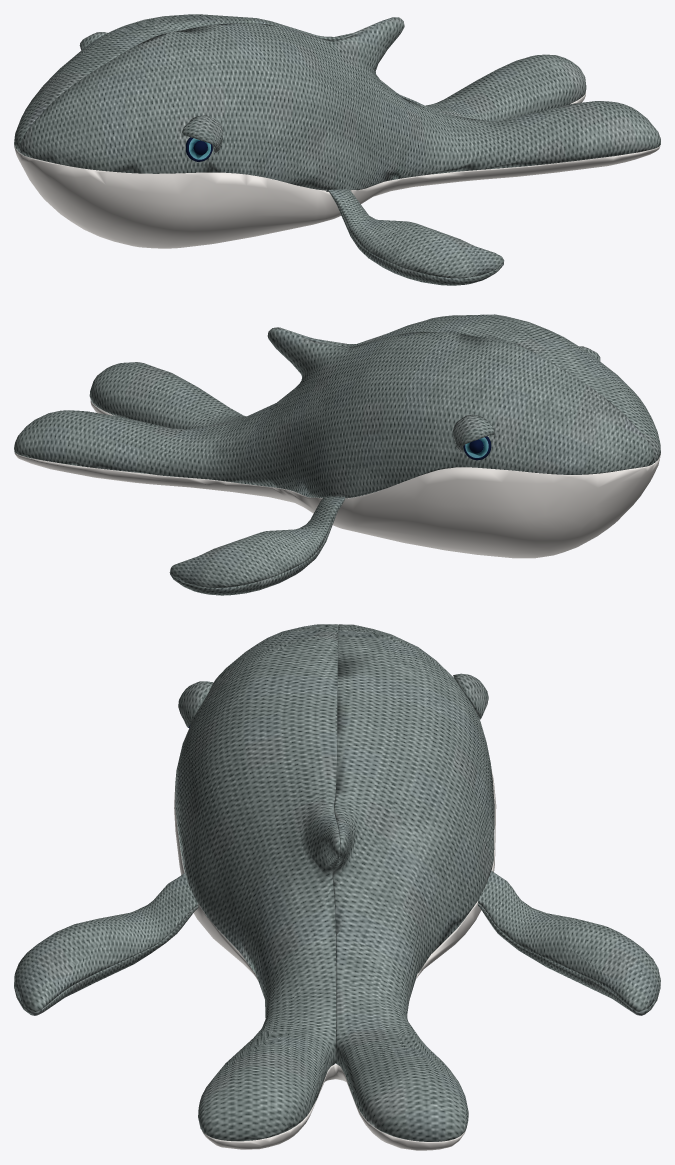
Rendered from Grandma_Giant_Whale_Soft_Toy_fur.glb.
3 views of the same model, one above another, from view 1: azimuth 30°, elevation 25°; view 2: azimuth 150°, elevation 25°; view 3: azimuth 270°, elevation 25° (orthographic). The views are drawn at different scales.
Parts seen in each view (by area): view 1: Grandma_Giant_Whale_Soft_Toy_StaticMeshComponent0, Grandma_Giant_Whale_Soft_Toy_fur_StaticMeshComponent0; view 2: Grandma_Giant_Whale_Soft_Toy_StaticMeshComponent0, Grandma_Giant_Whale_Soft_Toy_fur_StaticMeshComponent0; view 3: Grandma_Giant_Whale_Soft_Toy_StaticMeshComponent0, Grandma_Giant_Whale_Soft_Toy_fur_StaticMeshComponent0.
Part boxes in pixels (<box>): Grandma_Giant_Whale_Soft_Toy_StaticMeshComponent0: <box>14,14,660,285</box>; Grandma_Giant_Whale_Soft_Toy_fur_StaticMeshComponent0: <box>14,92,660,248</box>; Grandma_Giant_Whale_Soft_Toy_StaticMeshComponent0: <box>14,314,660,595</box>; Grandma_Giant_Whale_Soft_Toy_fur_StaticMeshComponent0: <box>14,400,660,558</box>; Grandma_Giant_Whale_Soft_Toy_StaticMeshComponent0: <box>14,624,660,1141</box>; Grandma_Giant_Whale_Soft_Toy_fur_StaticMeshComponent0: <box>174,770,496,1150</box>.
Size of what is drawn, in the model's own units: 0.4102 by 0.1347 by 0.312.
Materials: 4 (2 with a texture image).
